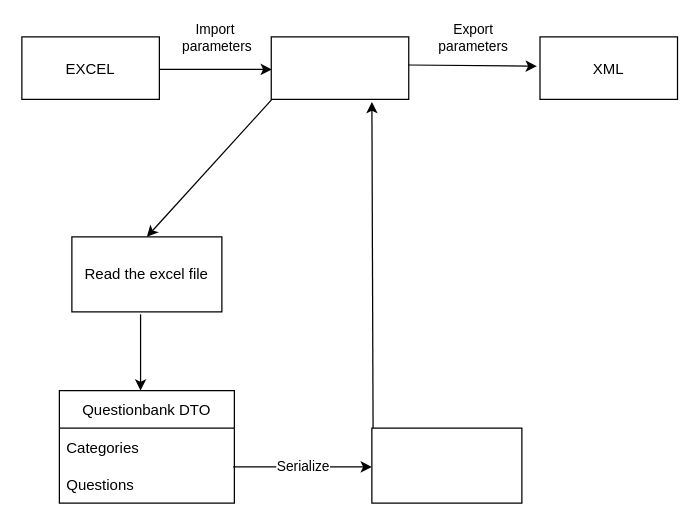
This 700x525 diagram has some shape labels left out. The shapes that lost their labels are listed below. From the top down, each one's centre as x and y in pixels, then its label:
At [339,67]: ".xlsx -> .xml".
At [446,465]: ".XML form".
